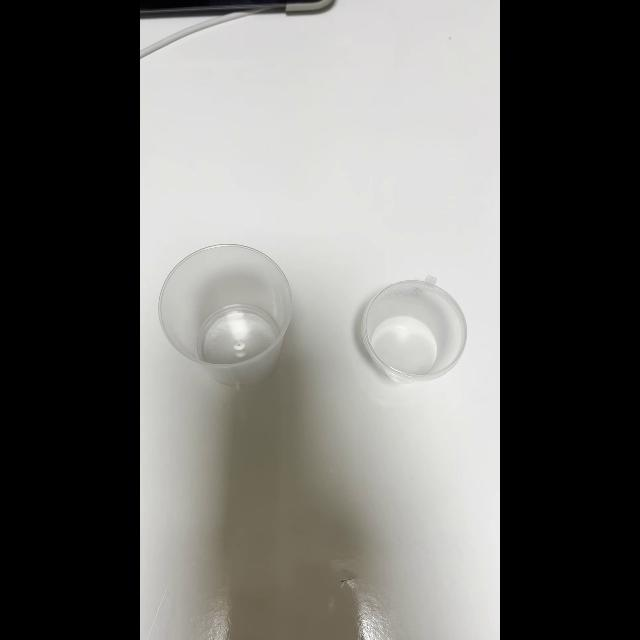clean: (158, 248, 286, 396), (356, 271, 464, 389)
